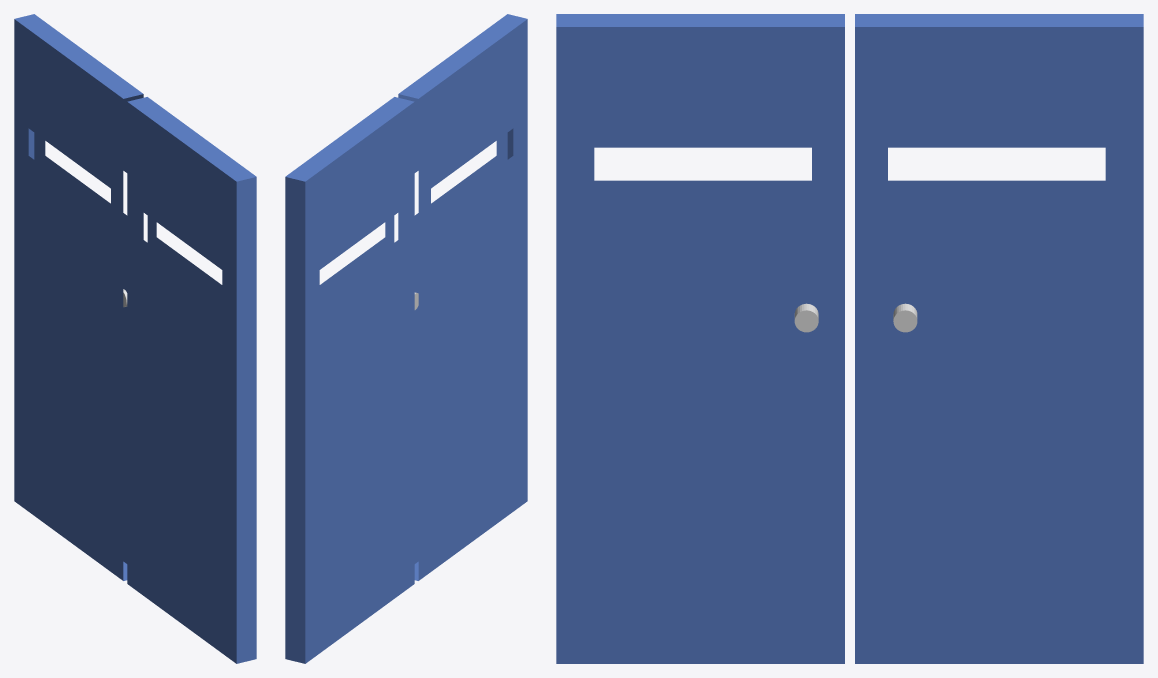
Rendered from PintuRumahSakitBiru.fbx.
3 views of the same model, side by side, from view 1: azimuth 30°, elevation 25°; view 2: azimuth 150°, elevation 25°; view 3: azimuth 270°, elevation 25° (orthographic). The views are drawn at different scales.
Visible parts, largest first — view 1: Cube; view 2: Cube; view 3: Cube.
Part boxes in pixels (left/top/right/bottom): Cube: left=14, top=14, right=256, bottom=663; Cube: left=285, top=14, right=527, bottom=663; Cube: left=556, top=14, right=1143, bottom=663.
Bounding box in the file's own units: 32.85 × 484 × 404.
